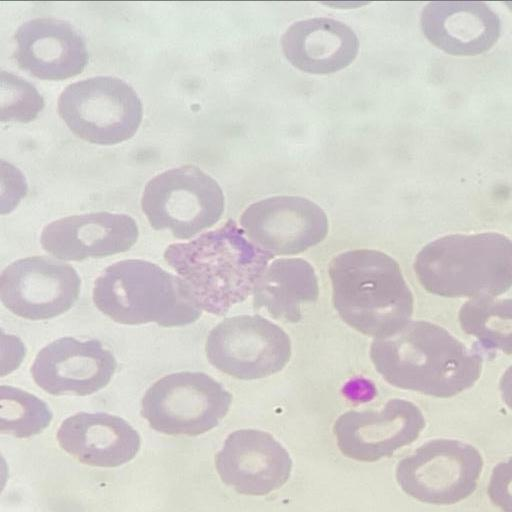Infected: (162, 218, 276, 315)
Uninfected: (376, 321, 479, 397), (93, 259, 194, 328), (141, 164, 227, 239), (416, 231, 509, 299), (140, 370, 231, 436), (58, 74, 142, 144), (205, 315, 289, 380), (334, 398, 422, 460), (396, 439, 481, 503), (241, 195, 328, 254), (0, 255, 78, 320), (32, 335, 113, 397), (215, 430, 290, 496), (280, 16, 360, 75), (42, 211, 136, 260), (13, 16, 87, 78), (57, 411, 138, 466), (420, 0, 500, 55), (330, 248, 402, 308), (259, 258, 317, 322), (336, 286, 409, 336)
